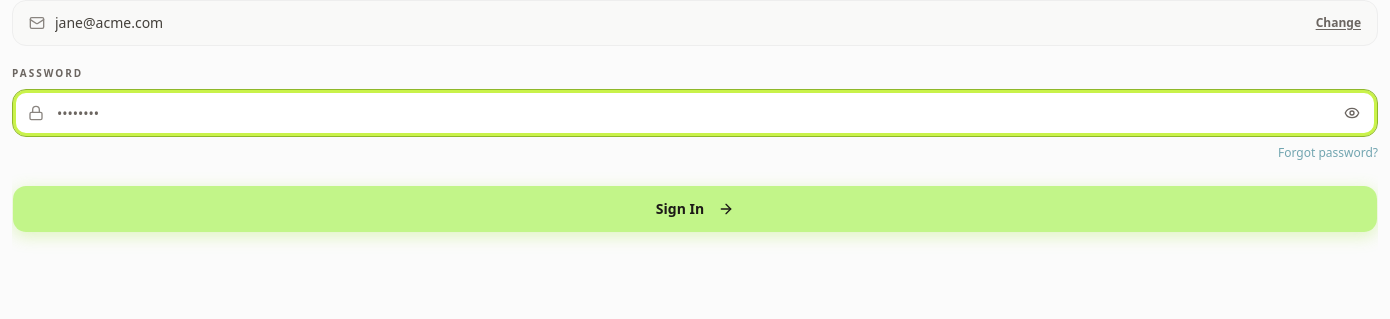
it: PasswordStep › shows the server message when login reports failure without a token
Type "wrong" into the password field labelled "Password".
click(695, 113); type("wrong")  # box [12,89,1378,137]
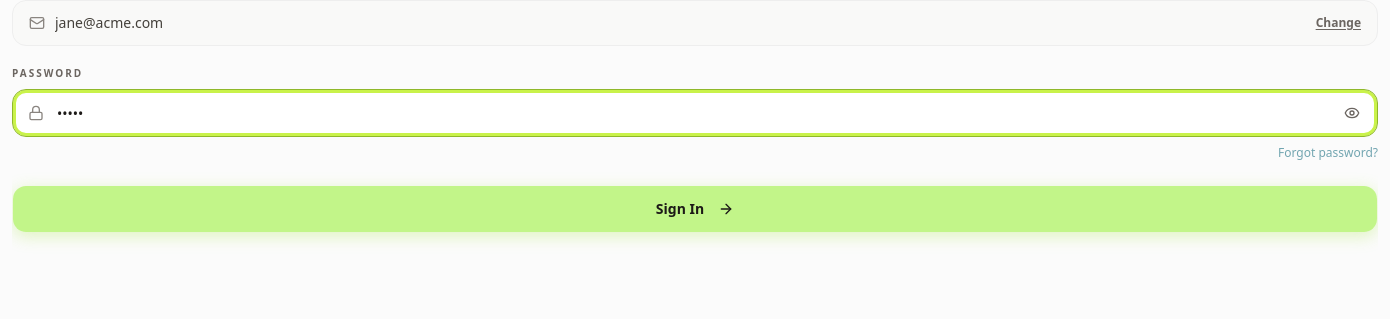
Click the button "Sign In".
click(695, 209)  # box [12,185,1378,233]
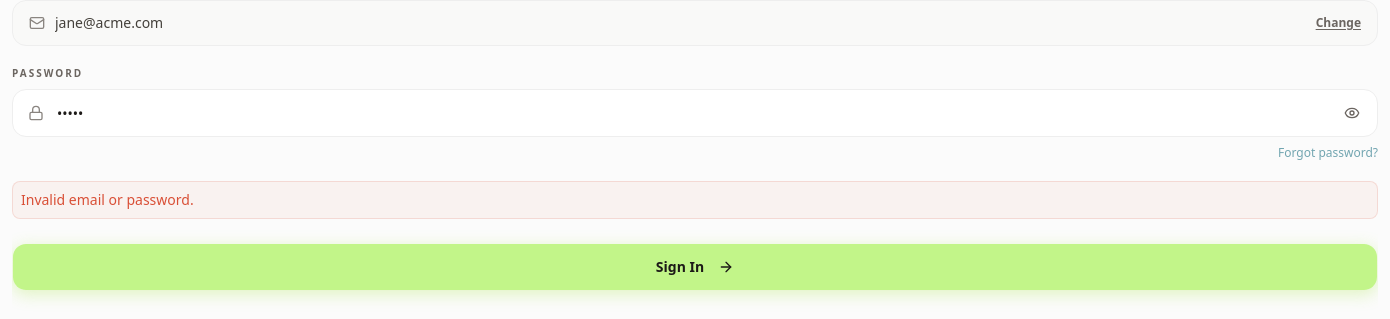
Expected: the text "Invalid email or password." is shown, [12,181,1378,219]
